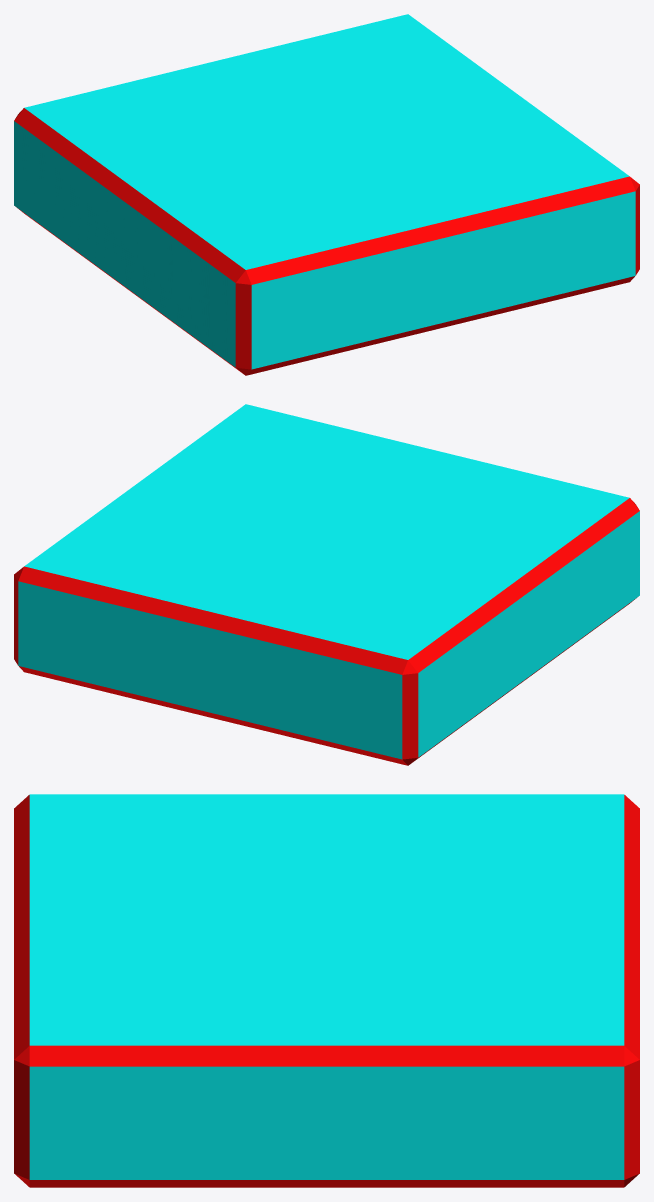
The model's file is L13_UpDown_Platform.fbx.
The picture shows the model from 3 angles, top to bottom: view 1: azimuth 30°, elevation 25°; view 2: azimuth 150°, elevation 25°; view 3: azimuth 270°, elevation 25°; orthographic projection. The views are drawn at different scales.
Parts seen in each view (by area): view 1: L13_UpDown_Platform; view 2: L13_UpDown_Platform; view 3: L13_UpDown_Platform.
Part boxes in pixels (left/top/right/bottom): L13_UpDown_Platform: left=14, top=14, right=639, bottom=375; L13_UpDown_Platform: left=14, top=404, right=639, bottom=765; L13_UpDown_Platform: left=14, top=794, right=639, bottom=1187.
Size of the model in its own units: 200 by 50 by 200.
